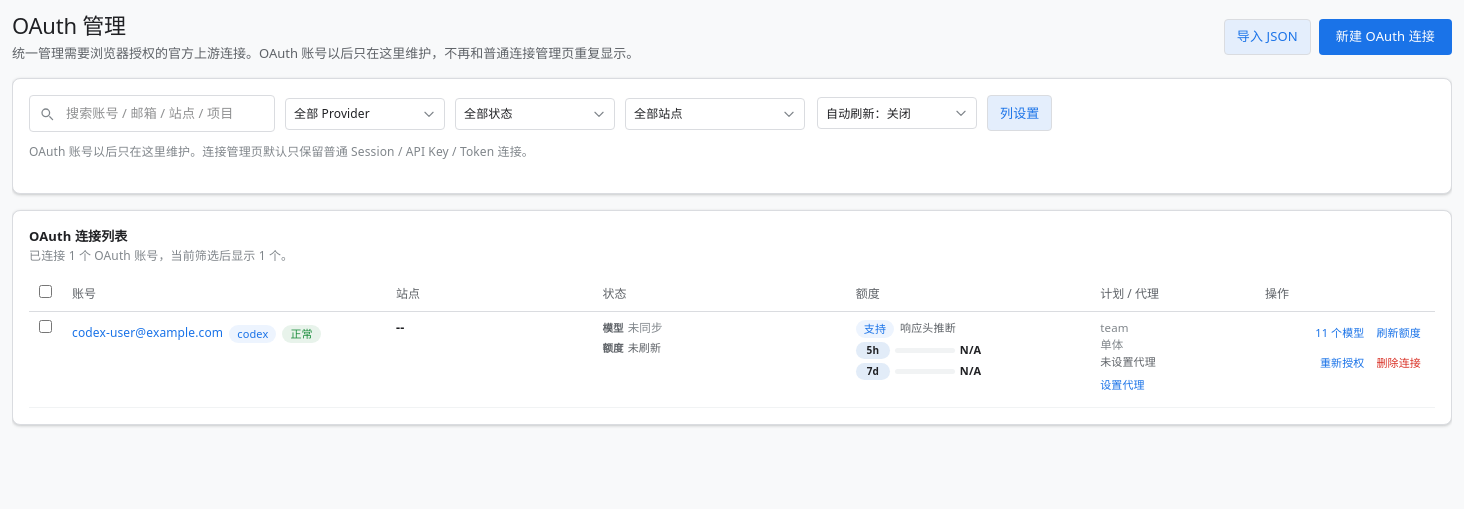
Test: OAuthManagement page › refreshes quota for a connection and reloads the connection list
What coordinates should you click on to do the following:
click the button "刷新额度"
I would click on:
 (1399, 334)
Its box is [1372,320,1425,348].
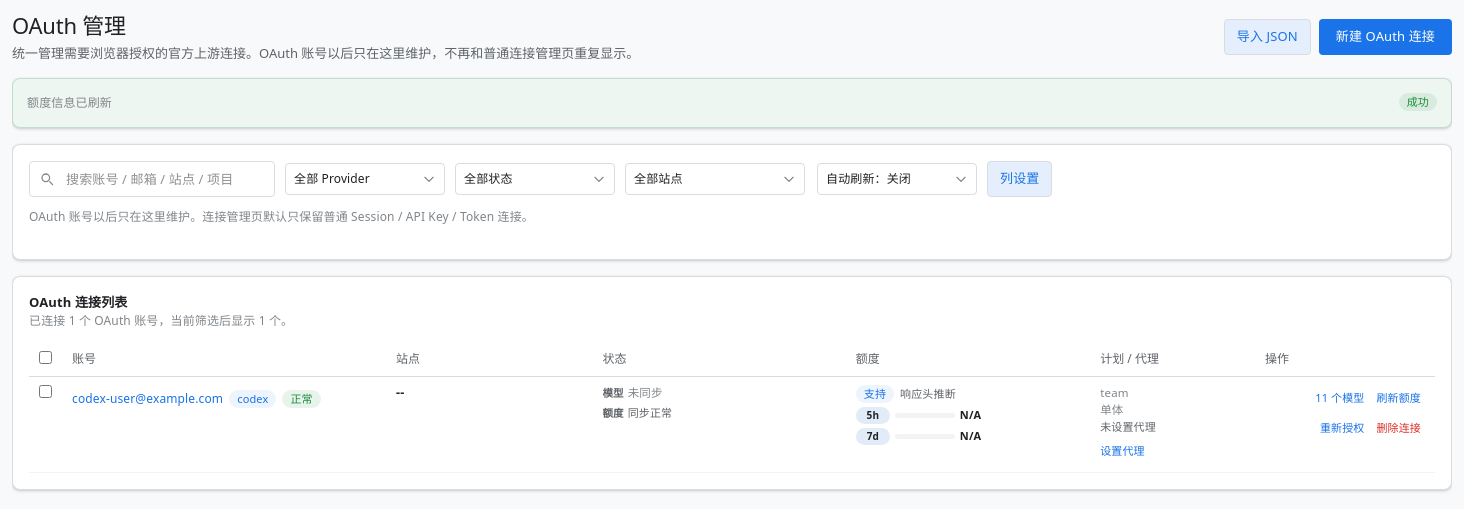
Check: the text "额度信息已刷新" is shown, box [27,93,112,112]
